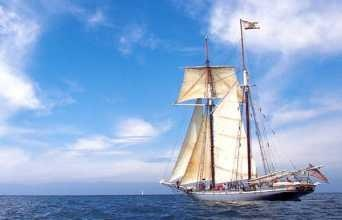fanchuan: (160, 23, 328, 200)
